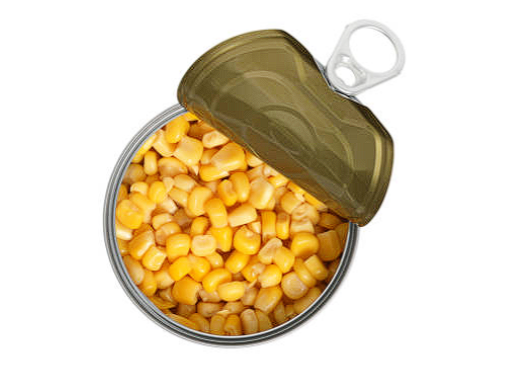Danificado: (109, 33, 406, 346)
